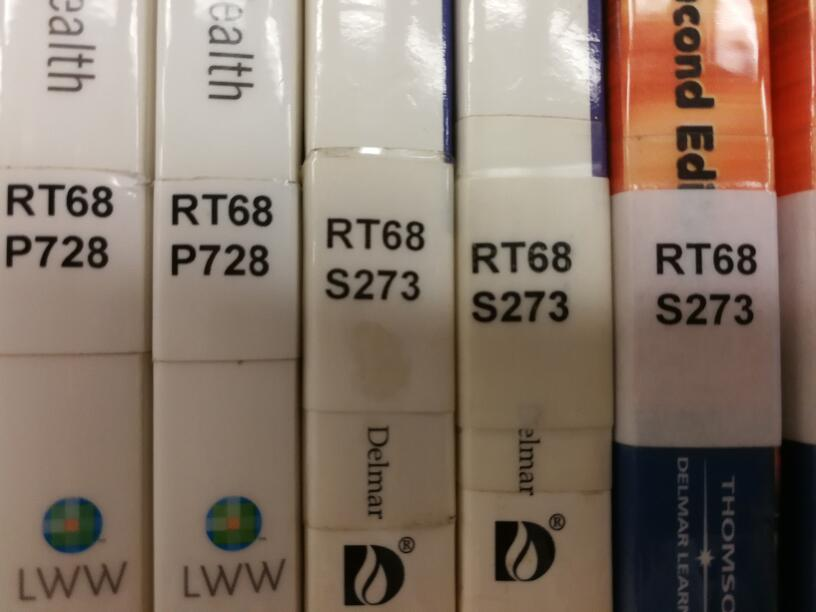booklabel: (3, 179, 115, 272), (652, 238, 759, 329), (167, 191, 275, 280), (322, 214, 427, 305), (468, 238, 574, 325)
